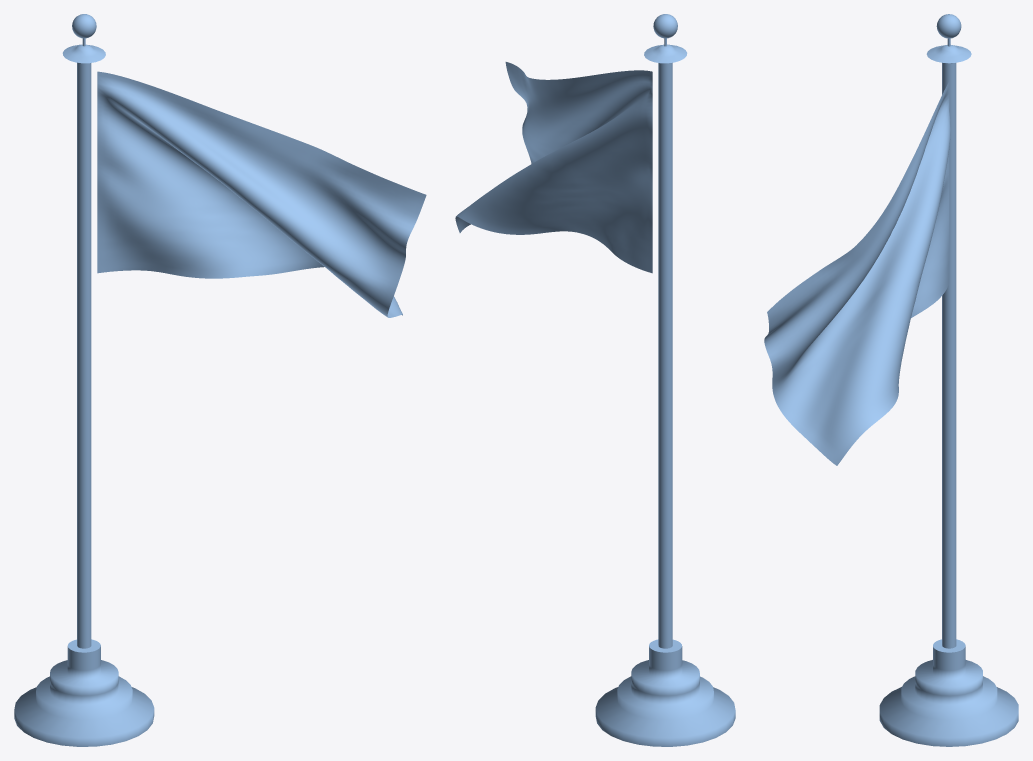
Rendered from Pole.fbx.
The picture shows the model from 3 angles, left to right: view 1: azimuth 30°, elevation 25°; view 2: azimuth 150°, elevation 25°; view 3: azimuth 270°, elevation 25°; orthographic projection.
Parts seen in each view (by area): view 1: USMC flag; view 2: USMC flag; view 3: USMC flag.
Part boxes in pixels (bbox=[...]): USMC flag: bbox=[14, 14, 426, 746]; USMC flag: bbox=[455, 14, 735, 746]; USMC flag: bbox=[764, 14, 1018, 746].
Size of the model in its own units: 7521 by 15761 by 5143.
